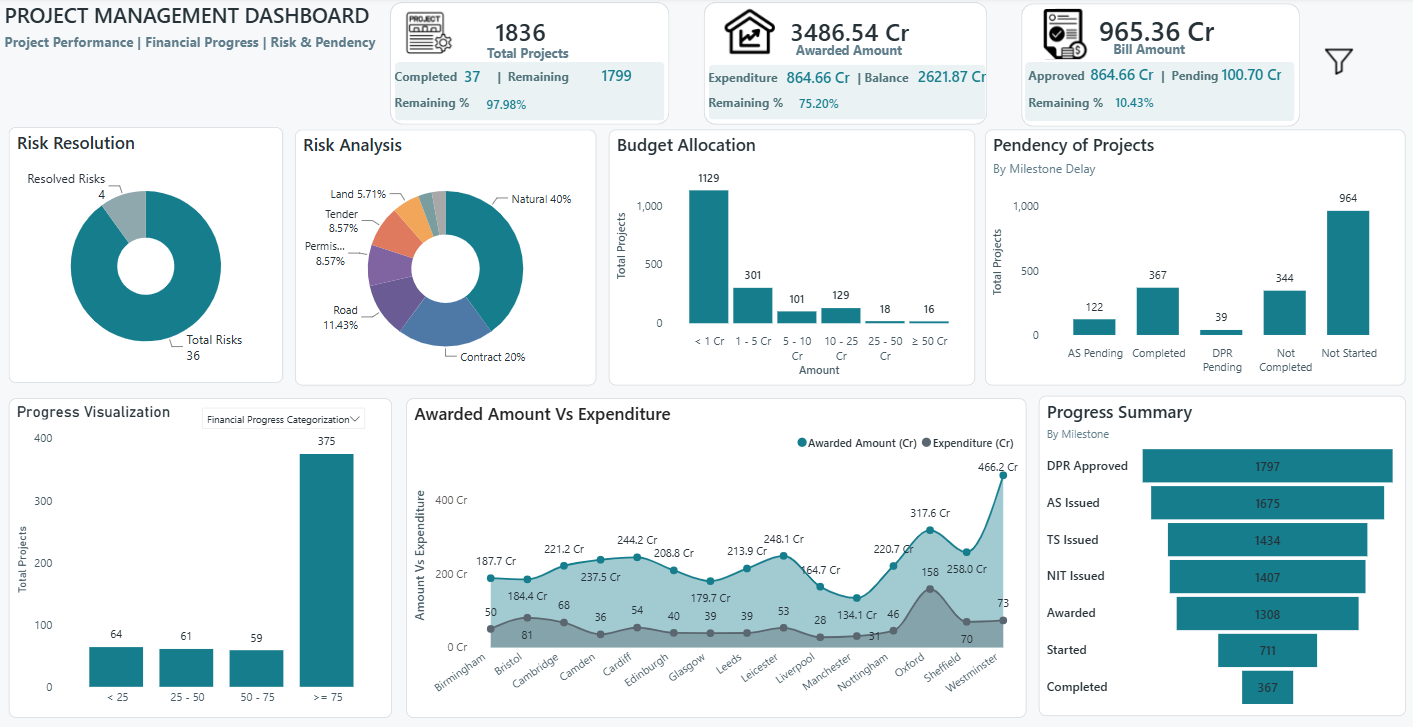

The dashboard page shown, as its layout file describes it:
{"tool":"powerbi","page":{"name":"Dashboard","canvas":[1550,800],"ordinal":0},"visuals":[{"type":"columnChart","title":"Progress Visualization","fields":{"Category":["Project.Financial Progress Categorization"],"Y":["CountNonNull(Project.Project Code)"]},"box":[9.4,438.3,419.6,349.9],"z":0},{"type":"slicer","fields":{"Values":["Progress Visualization.Progress Visualization"]},"box":[210,438.6,198.6,41.4],"z":1000},{"type":"textbox","title":"PROJECT MANAGEMENT DASHBOARD","box":[0,4,431.6,59],"z":2000},{"type":"shape","box":[426.3,5.4,305.6,134],"z":3000},{"type":"actionButton","box":[426.3,6.7,85.8,63],"z":4000},{"type":"cardVisual","fields":{"Data":["Measures_.Total Projects"]},"box":[513.4,2.7,130,67],"z":5000},{"type":"textbox","box":[528.2,46.9,100.5,30.8],"z":6000},{"type":"shape","box":[431.6,71,294.9,64.3],"z":7000},{"type":"cardVisual","fields":{"Data":["Measures_.Remaining %"]},"box":[502.7,91.2,108.6,48.3],"z":8000},{"type":"textbox","box":[426.3,100.5,103.2,33.5],"z":9000},{"type":"cardVisual","fields":{"Data":["Measures_.Remaining"]},"box":[628.7,59,100.5,52.3],"z":10000},{"type":"textbox","box":[528.2,72.4,105.9,34.9],"z":11000},{"type":"cardVisual","fields":{"Data":["Measures_.Completed_"]},"box":[478.6,59,77.7,53.6],"z":12000},{"type":"textbox","box":[426.3,72.4,91.2,34.9],"z":13000},{"type":"shape","box":[770,5.7,310,134.3],"z":14000},{"type":"actionButton","box":[776.1,5.4,87.1,63],"z":15000},{"type":"shape","box":[774.8,73.7,303,60.3],"z":16000},{"type":"cardVisual","fields":{"Data":["Measures_.Awarded Amount (Cr)"]},"box":[835.1,4,193,63],"z":17000},{"type":"textbox","box":[866,44.2,131.4,30.8],"z":18000},{"type":"textbox","box":[769.4,73.7,91.2,34.9],"z":19000},{"type":"textbox","box":[921.4,74.3,105.7,34.3],"z":20000},{"type":"cardVisual","fields":{"Data":["Measures_.Remaining Amount"]},"box":[974.3,57.1,142.9,57.1],"z":21000},{"type":"cardVisual","fields":{"Data":["Measures_.Expenditure (Cr)"]},"box":[831.1,60.3,132.7,52.3],"z":22000},{"type":"textbox","box":[769.4,100.5,101.9,33.5],"z":23000},{"type":"cardVisual","fields":{"Data":["Measures_.Remaining Amount %"]},"box":[844.5,89.8,108.6,49.6],"z":24000},{"type":"shape","box":[1116.6,6.7,305,135],"z":25000},{"type":"actionButton","box":[1122,8,85.8,63],"z":26000},{"type":"shape","box":[1120.6,71,295,65],"z":27000},{"type":"cardVisual","fields":{"Data":["Measures_.Bill Amount (Cr)"]},"box":[1172.9,4,193,61.7],"z":28000},{"type":"textbox","box":[1213.1,42.9,93.8,30.8],"z":29000},{"type":"textbox","box":[1119.3,71,89.8,34.9],"z":30000},{"type":"cardVisual","fields":{"Data":["Measures_.Approved Bills"]},"box":[1163.5,55,135.4,56.3],"z":31000},{"type":"cardVisual","fields":{"Data":["Measures_.Pending"]},"box":[1307,56.3,126,55],"z":32000},{"type":"textbox","box":[1253.4,71,105.9,34.9],"z":33000},{"type":"textbox","box":[1119.3,100.5,101.9,33.5],"z":34000},{"type":"cardVisual","fields":{"Data":["Measures_.Remaining Bill %"]},"box":[1190.4,88.5,108.6,49.6],"z":35000},{"type":"donutChart","title":"Risk Resolution ","fields":{"Category":["Risk Resolution Category.Category"],"Y":["Risk Resolution Category.Risk Resolution Value"]},"box":[9.4,142.1,300.3,280.2],"z":36000},{"type":"donutChart","title":"Risk Analysis","fields":{"Category":["Risk_Details1.Risk Category"],"Y":["Count(Risk_Details1.Project Code)"]},"box":[323.1,144.8,329.8,280.2],"z":37000},{"type":"columnChart","title":"Budget Allocation","fields":{"Y":["CountNonNull(Project.Project Code)"],"Category":["Project.AS Amount Categorization"]},"box":[666.2,144.8,400.8,280.2],"z":38000},{"type":"columnChart","title":"Pendency of Projects","fields":{"Y":["CountNonNull(Project.Project Code)"],"Category":["Project.Project Pending Status"]},"box":[1077.8,144.8,459.8,280.2],"z":39000},{"type":"lineChart","title":"Awarded Amount Vs Expenditure","fields":{"Category":["Project.District"],"Y":["Measures_.Awarded Amount (Cr)","Measures_.Expenditure (Cr)"]},"box":[443.7,438.3,678.3,349.9],"z":40000},{"type":"funnel","title":"Progress Summary ","fields":{"Category":["Progress Milestones.Milestone"],"Y":["Progress Milestones.Progress Summary"]},"box":[1136.3,436.5,401.3,350.6],"z":41000},{"type":"actionButton","box":[1445,50.9,38.9,40.2],"z":43501}]}

Visuals, with their boxes in screenshot pixels (x1, y1, x2, y2), scaled from the page's 1550x800 canvas onto the 1413x727 screenshot:
"Progress Visualization" columnChart: x1=9, y1=398, x2=391, y2=716
slicer - Progress Visualization.Progress Visualization: x1=191, y1=399, x2=372, y2=436
"PROJECT MANAGEMENT DASHBOARD" textbox: x1=0, y1=4, x2=393, y2=57
shape: x1=389, y1=5, x2=667, y2=127
actionButton: x1=389, y1=6, x2=467, y2=63
cardVisual - Measures_.Total Projects: x1=468, y1=2, x2=587, y2=63
textbox: x1=482, y1=43, x2=573, y2=71
shape: x1=393, y1=65, x2=662, y2=123
cardVisual - Measures_.Remaining %: x1=458, y1=83, x2=557, y2=127
textbox: x1=389, y1=91, x2=483, y2=122
cardVisual - Measures_.Remaining: x1=573, y1=54, x2=665, y2=101
textbox: x1=482, y1=66, x2=578, y2=98
cardVisual - Measures_.Completed_: x1=436, y1=54, x2=507, y2=102
textbox: x1=389, y1=66, x2=472, y2=98
shape: x1=702, y1=5, x2=985, y2=127
actionButton: x1=708, y1=5, x2=787, y2=62
shape: x1=706, y1=67, x2=983, y2=122
cardVisual - Measures_.Awarded Amount (Cr): x1=761, y1=4, x2=937, y2=61
textbox: x1=789, y1=40, x2=909, y2=68
textbox: x1=701, y1=67, x2=785, y2=99
textbox: x1=840, y1=68, x2=936, y2=99
cardVisual - Measures_.Remaining Amount: x1=888, y1=52, x2=1018, y2=104
cardVisual - Measures_.Expenditure (Cr): x1=758, y1=55, x2=879, y2=102
textbox: x1=701, y1=91, x2=794, y2=122
cardVisual - Measures_.Remaining Amount %: x1=770, y1=82, x2=869, y2=127
shape: x1=1018, y1=6, x2=1296, y2=129
actionButton: x1=1023, y1=7, x2=1101, y2=65
shape: x1=1022, y1=65, x2=1290, y2=124
cardVisual - Measures_.Bill Amount (Cr): x1=1069, y1=4, x2=1245, y2=60
textbox: x1=1106, y1=39, x2=1191, y2=67
textbox: x1=1020, y1=65, x2=1102, y2=96
cardVisual - Measures_.Approved Bills: x1=1061, y1=50, x2=1184, y2=101
cardVisual - Measures_.Pending: x1=1191, y1=51, x2=1306, y2=101
textbox: x1=1143, y1=65, x2=1239, y2=96
textbox: x1=1020, y1=91, x2=1113, y2=122
cardVisual - Measures_.Remaining Bill %: x1=1085, y1=80, x2=1184, y2=125
"Risk Resolution " donutChart: x1=9, y1=129, x2=282, y2=384
"Risk Analysis" donutChart: x1=295, y1=132, x2=595, y2=386
"Budget Allocation" columnChart: x1=607, y1=132, x2=973, y2=386
"Pendency of Projects" columnChart: x1=983, y1=132, x2=1402, y2=386
"Awarded Amount Vs Expenditure" lineChart: x1=404, y1=398, x2=1023, y2=716
"Progress Summary " funnel: x1=1036, y1=397, x2=1402, y2=715
actionButton: x1=1317, y1=46, x2=1353, y2=83
